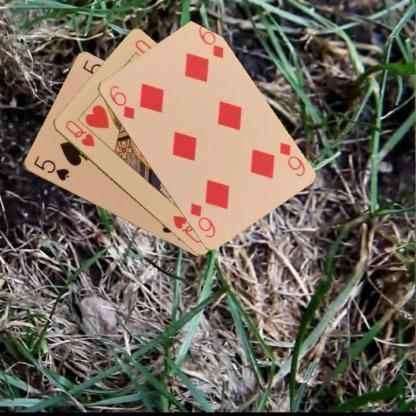5s: (31, 153, 70, 183)
6d: (276, 139, 306, 178), (106, 82, 136, 120)
Qh: (62, 118, 96, 148)
